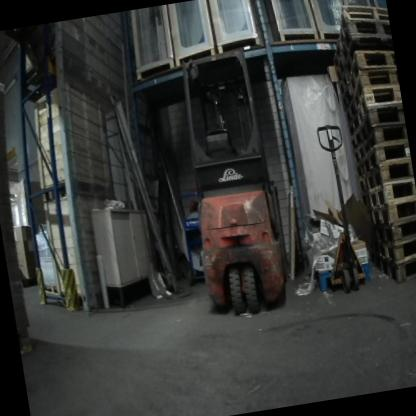forklift: (169, 43, 293, 322)
pallet: (336, 15, 395, 64), (344, 42, 399, 92), (37, 172, 111, 209), (334, 5, 392, 51), (349, 65, 402, 114), (22, 47, 86, 86), (352, 85, 404, 126), (358, 103, 407, 141), (316, 260, 372, 291), (361, 121, 409, 157), (364, 159, 415, 192), (362, 140, 412, 172), (367, 177, 416, 207), (370, 199, 416, 228), (377, 235, 416, 269), (379, 252, 416, 285), (375, 218, 416, 246), (85, 66, 113, 96), (82, 28, 106, 59), (340, 82, 355, 112), (343, 93, 357, 124), (348, 124, 364, 151), (337, 69, 352, 96), (331, 39, 343, 69), (334, 54, 348, 79), (346, 114, 360, 136), (43, 280, 58, 297), (352, 143, 365, 162), (355, 158, 366, 179), (360, 192, 371, 209), (358, 176, 368, 194)
pallet_truck: (305, 120, 368, 295)
